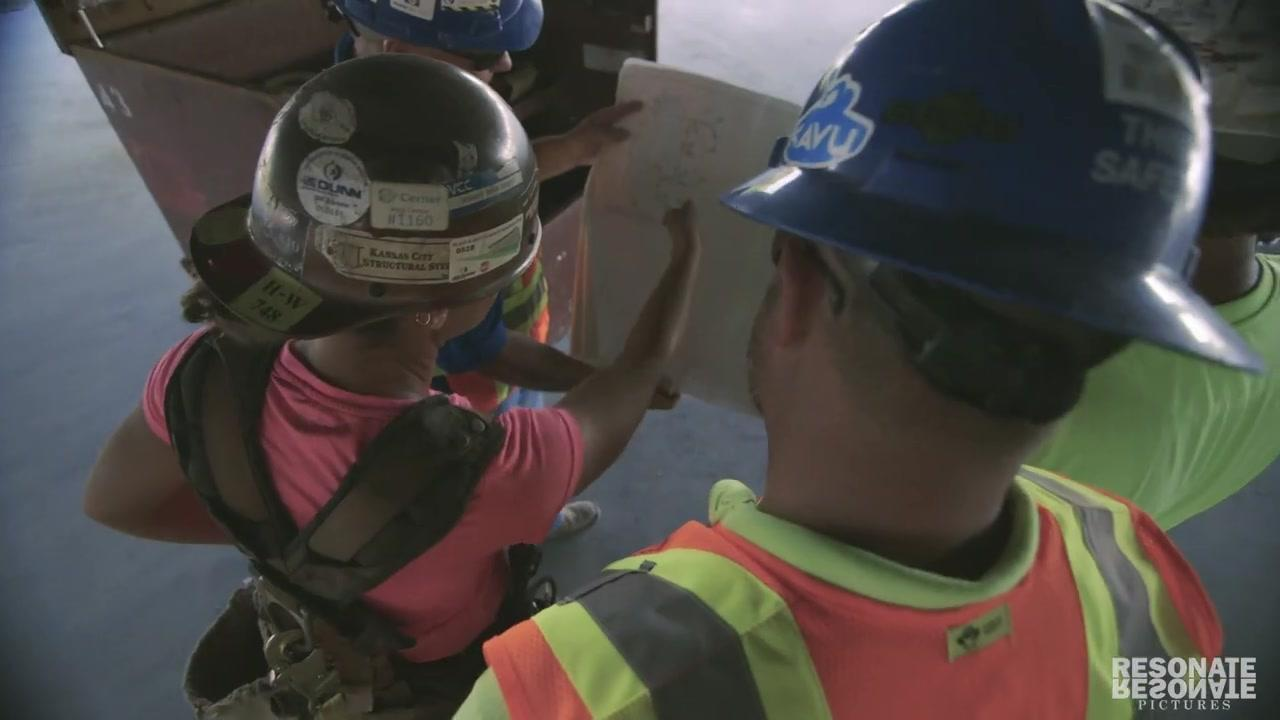vest: (475, 457, 1229, 718), (425, 254, 549, 413)
